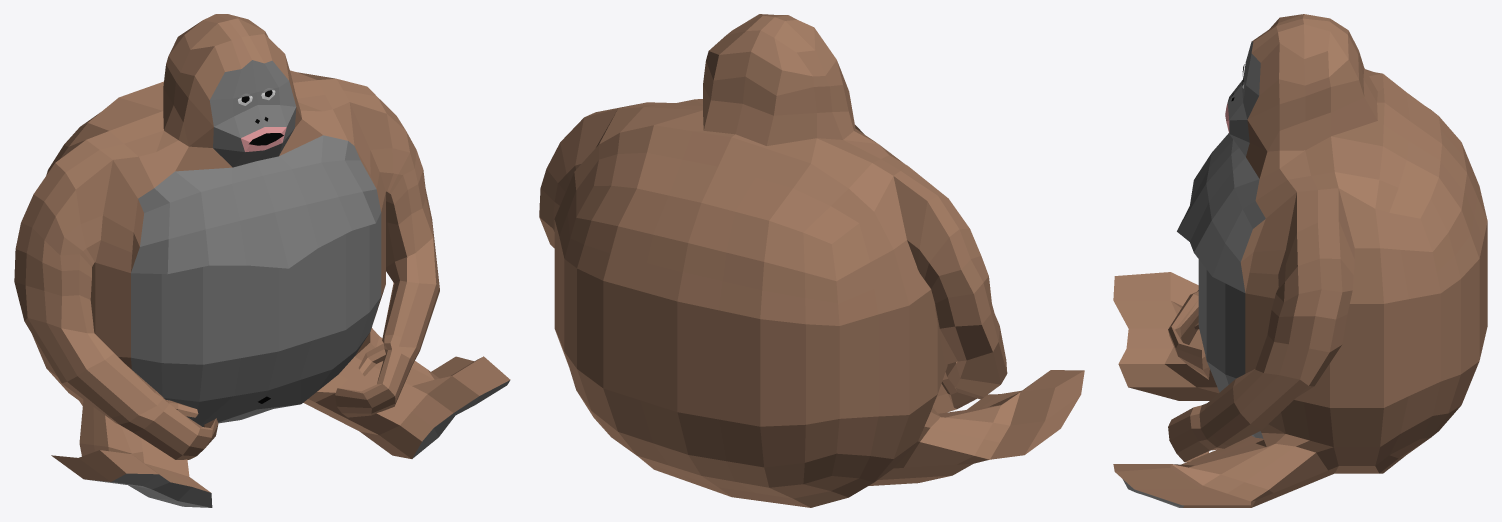
Rendered from LeMonke.fbx.
3 renders of one model, left to right at view 1: azimuth 30°, elevation 25°; view 2: azimuth 150°, elevation 25°; view 3: azimuth 270°, elevation 25°, orthographic. The views are drawn at different scales.
Visible parts, largest first — view 1: LeMonke; view 2: LeMonke; view 3: LeMonke.
Part boxes in pixels (x1=…): LeMonke: x1=14, y1=14, x2=510, y2=507; LeMonke: x1=539, y1=14, x2=1084, y2=507; LeMonke: x1=1113, y1=14, x2=1487, y2=507.
Bounding box in the file's own units: 382 × 376 × 292.
